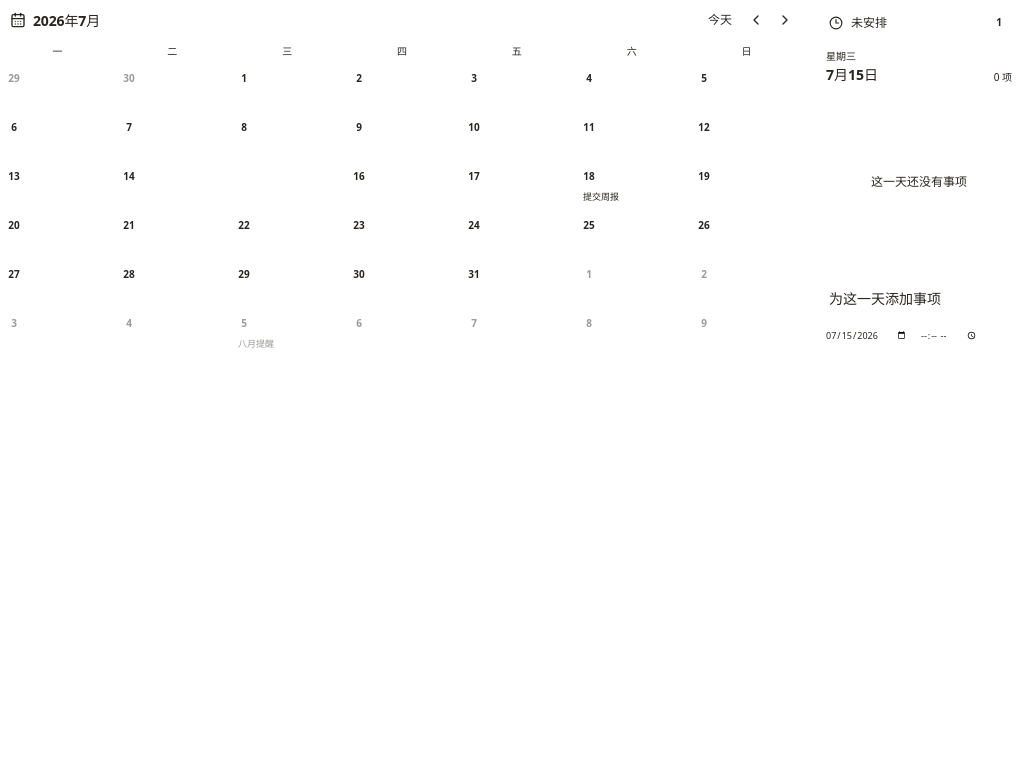
Scenario: CalendarView › shows title-only entries in minimal mode and opens them directly for editing
Click the button with class "calendar-task" showing "提交周报" at (632, 197), box 579,188 -> 685,206
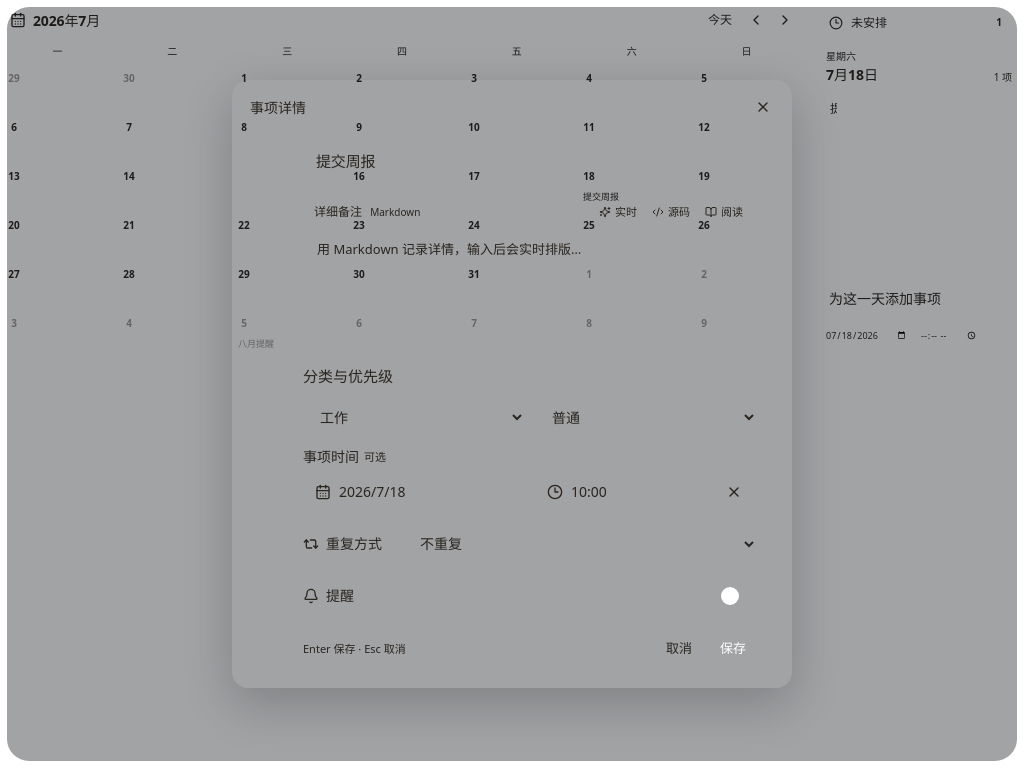
Check: the element with class "note-edit-form" is shown, box 303,142 -> 757,666
